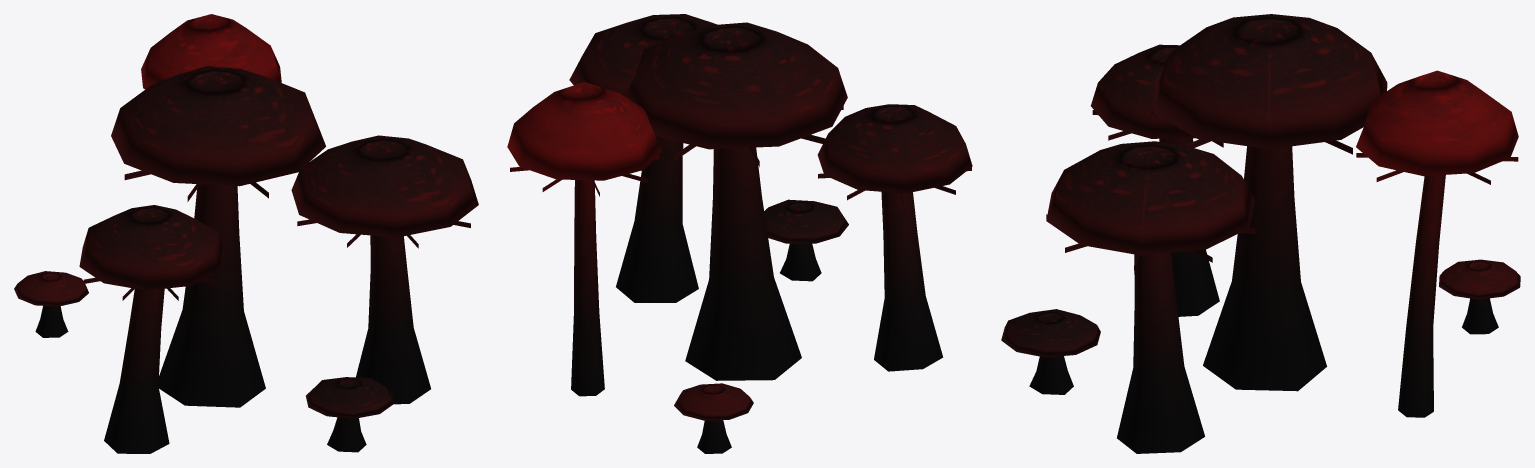
Rendered from plant_forest_mushroom_cluster_a.glb.
The picture shows the model from 3 angles, left to right: view 1: azimuth 30°, elevation 25°; view 2: azimuth 150°, elevation 25°; view 3: azimuth 270°, elevation 25°; orthographic projection. The views are drawn at different scales.
Visible parts, largest first — view 1: plant_forest_mushroom_cluster_a; view 2: plant_forest_mushroom_cluster_a; view 3: plant_forest_mushroom_cluster_a.
Boxes of the visible parts, bbox=[...] form: plant_forest_mushroom_cluster_a: bbox=[14, 14, 478, 453]; plant_forest_mushroom_cluster_a: bbox=[507, 14, 972, 453]; plant_forest_mushroom_cluster_a: bbox=[1001, 14, 1520, 453].
Bounding box in the file's own units: 0.4484 × 0.3602 × 0.4868.
Materials: 1 (1 with a texture image).
